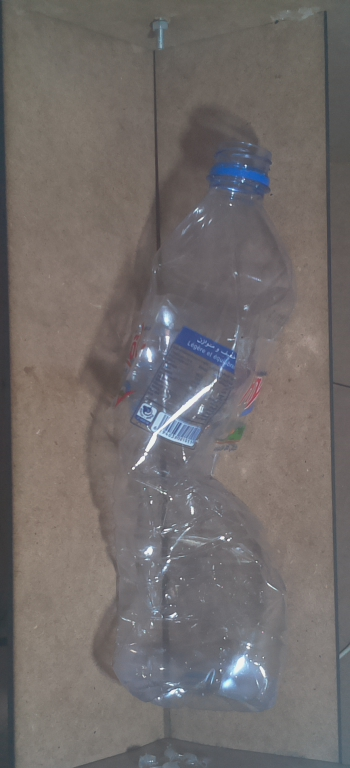Bouteille_1.5L: (81, 133, 313, 721)
